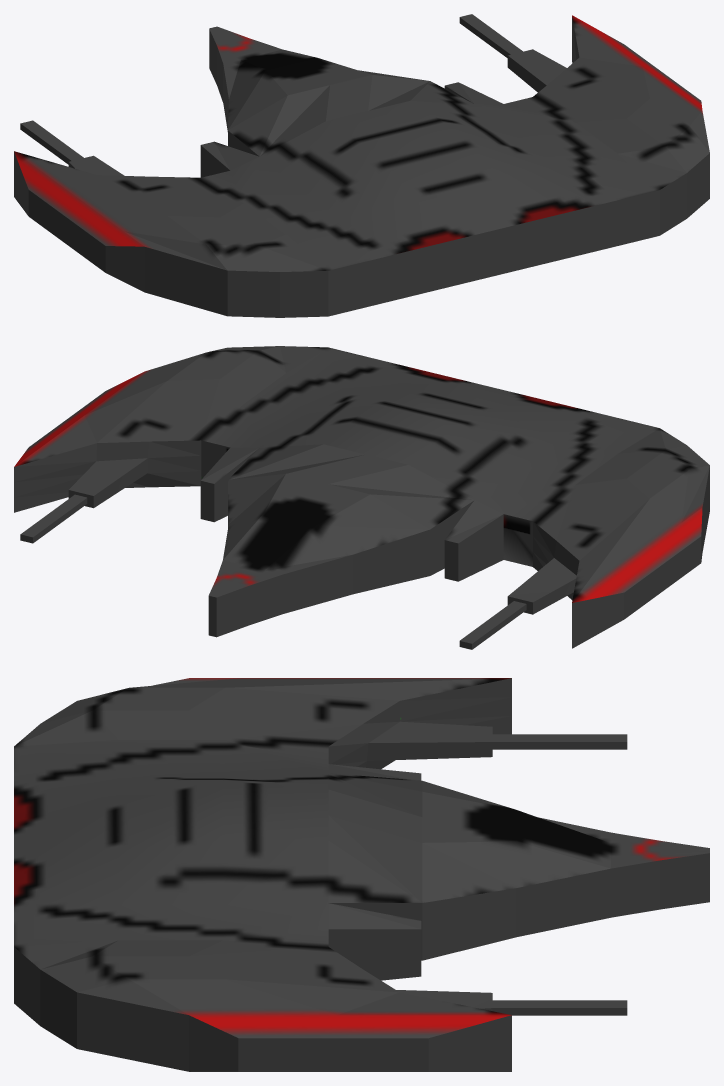
Rendered from Stormwall_3.FBX.
3 views of the same model, one above another, from view 1: azimuth 30°, elevation 25°; view 2: azimuth 150°, elevation 25°; view 3: azimuth 270°, elevation 25° (orthographic). The views are drawn at different scales.
Visible parts, largest first — view 1: Stormwall_v2; view 2: Stormwall_v2; view 3: Stormwall_v2.
Boxes of the visible parts, bbox=[...] form: Stormwall_v2: bbox=[14, 14, 709, 317]; Stormwall_v2: bbox=[14, 346, 709, 649]; Stormwall_v2: bbox=[14, 678, 709, 1071].
Bounding box in the file's own units: 94.7 × 11.51 × 77.45.
1 material, 1 textured.
